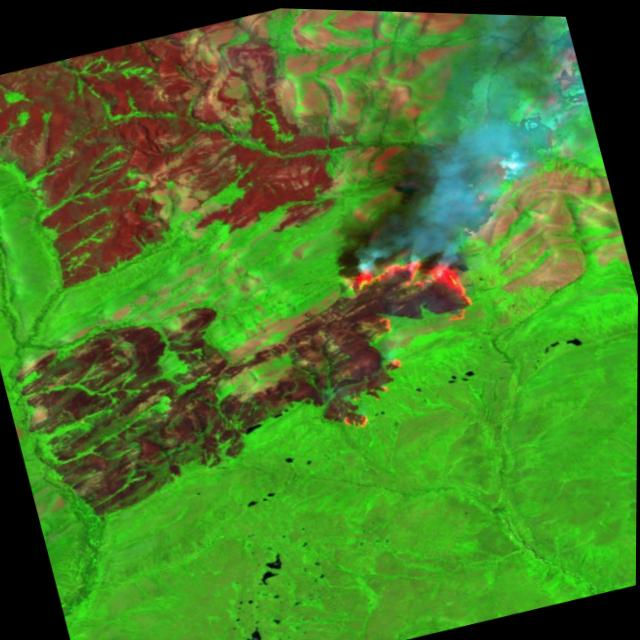fire: (315, 234, 489, 344)
